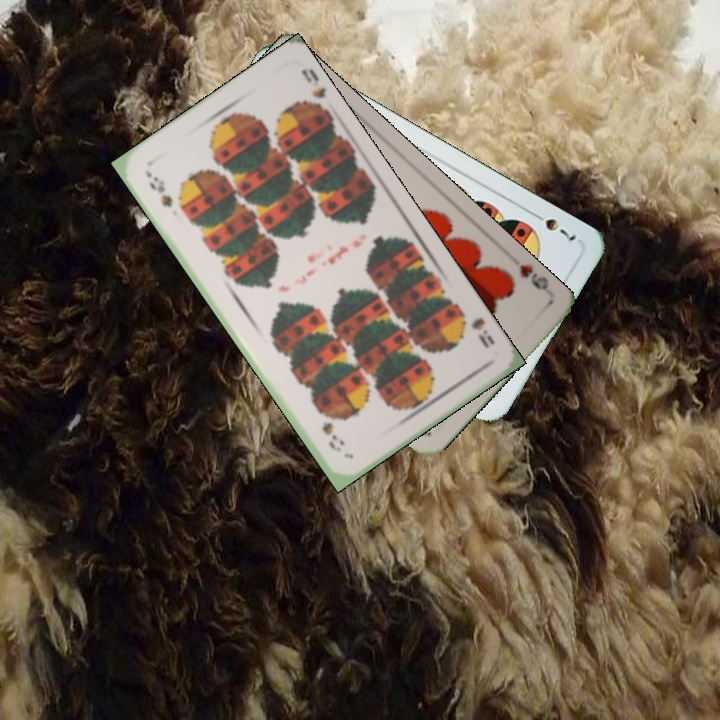H9: (515, 260, 551, 293)
S7: (527, 208, 580, 244)
S9: (455, 304, 497, 351), (145, 172, 176, 210)
